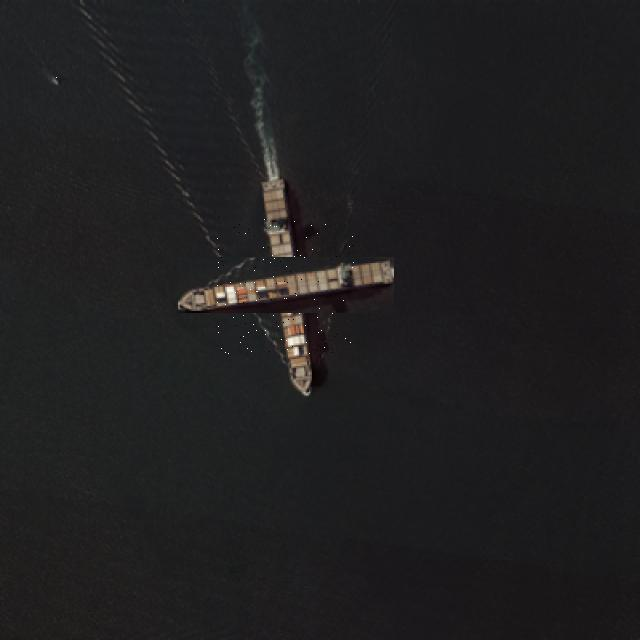boat: (217, 217, 354, 354), (51, 76, 58, 82)
